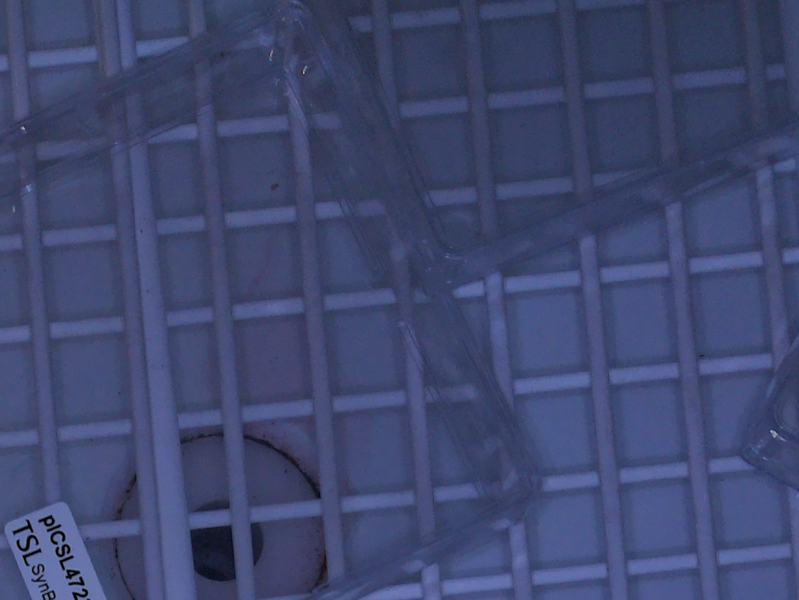plate: (1, 1, 547, 599), (312, 1, 799, 290), (735, 331, 799, 492)
